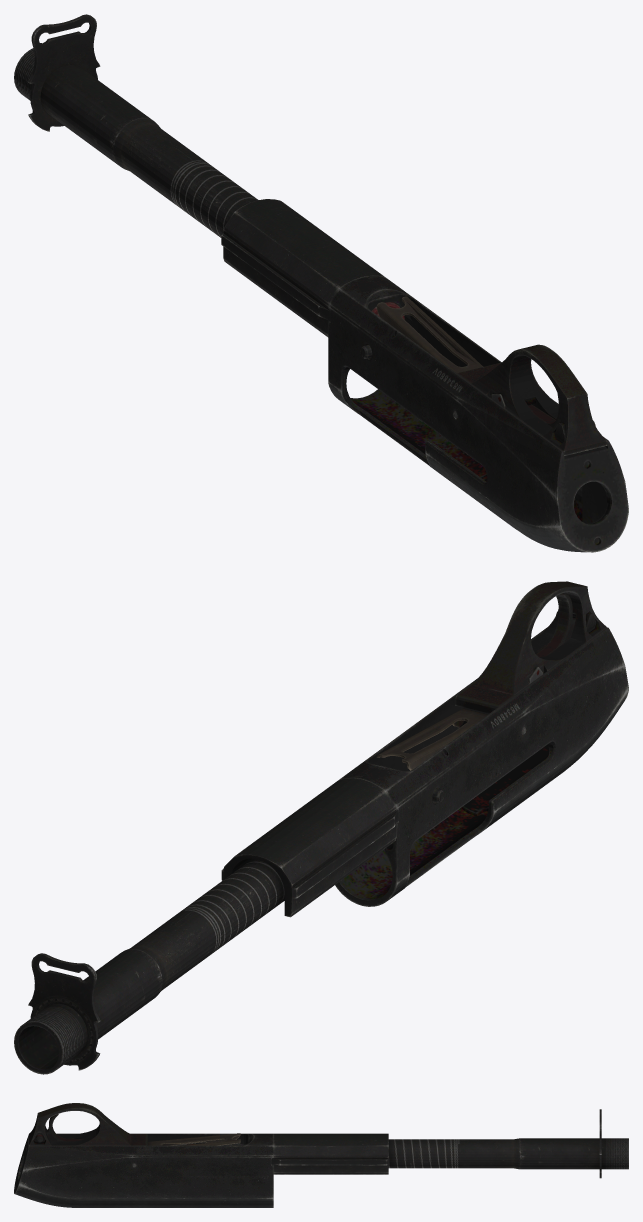
3 renders of one model, top to bottom at view 1: azimuth 30°, elevation 25°; view 2: azimuth 150°, elevation 25°; view 3: azimuth 270°, elevation 25°, orthographic. The views are drawn at different scales.
Parts seen in each view (by area): view 1: TW_6259b864ebedf17603599e88_PZ_Import; view 2: TW_6259b864ebedf17603599e88_PZ_Import; view 3: TW_6259b864ebedf17603599e88_PZ_Import.
Part boxes in pixels (box(x1,y1,x2,y2)): TW_6259b864ebedf17603599e88_PZ_Import: box(14, 14, 628, 552); TW_6259b864ebedf17603599e88_PZ_Import: box(14, 581, 628, 1074); TW_6259b864ebedf17603599e88_PZ_Import: box(14, 1103, 628, 1207).
Bounding box in the file's own units: 0.0246 × 0.3096 × 0.0556.
Materials: 1 (1 with a texture image).
